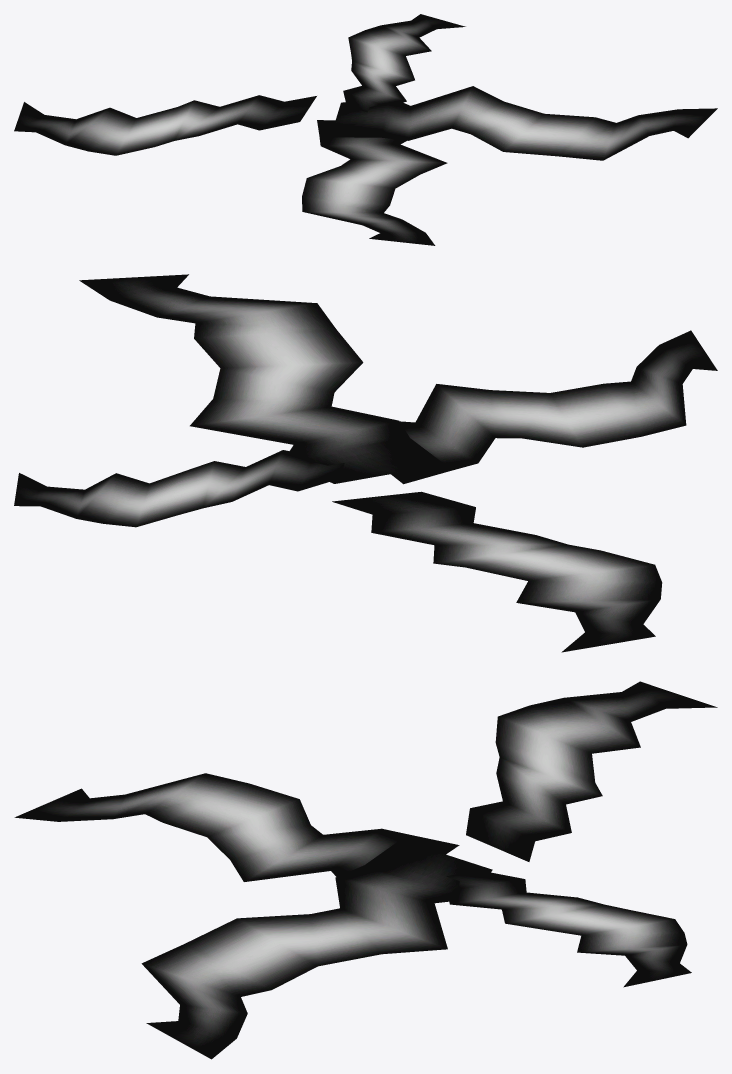
File: vfx_kurp_1089.dae
The picture shows the model from 3 angles, top to bottom: view 1: azimuth 30°, elevation 25°; view 2: azimuth 150°, elevation 25°; view 3: azimuth 270°, elevation 25°; orthographic projection. The views are drawn at different scales.
Parts seen in each view (by area): view 1: vfx_kurp_1089; view 2: vfx_kurp_1089; view 3: vfx_kurp_1089.
Part boxes in pixels (bbox=[...]): vfx_kurp_1089: bbox=[14, 14, 717, 245]; vfx_kurp_1089: bbox=[14, 274, 717, 652]; vfx_kurp_1089: bbox=[14, 681, 717, 1059].
Bounding box in the file's own units: 13.94 × 10.97 × 0.00265.
1 material, 1 textured.
